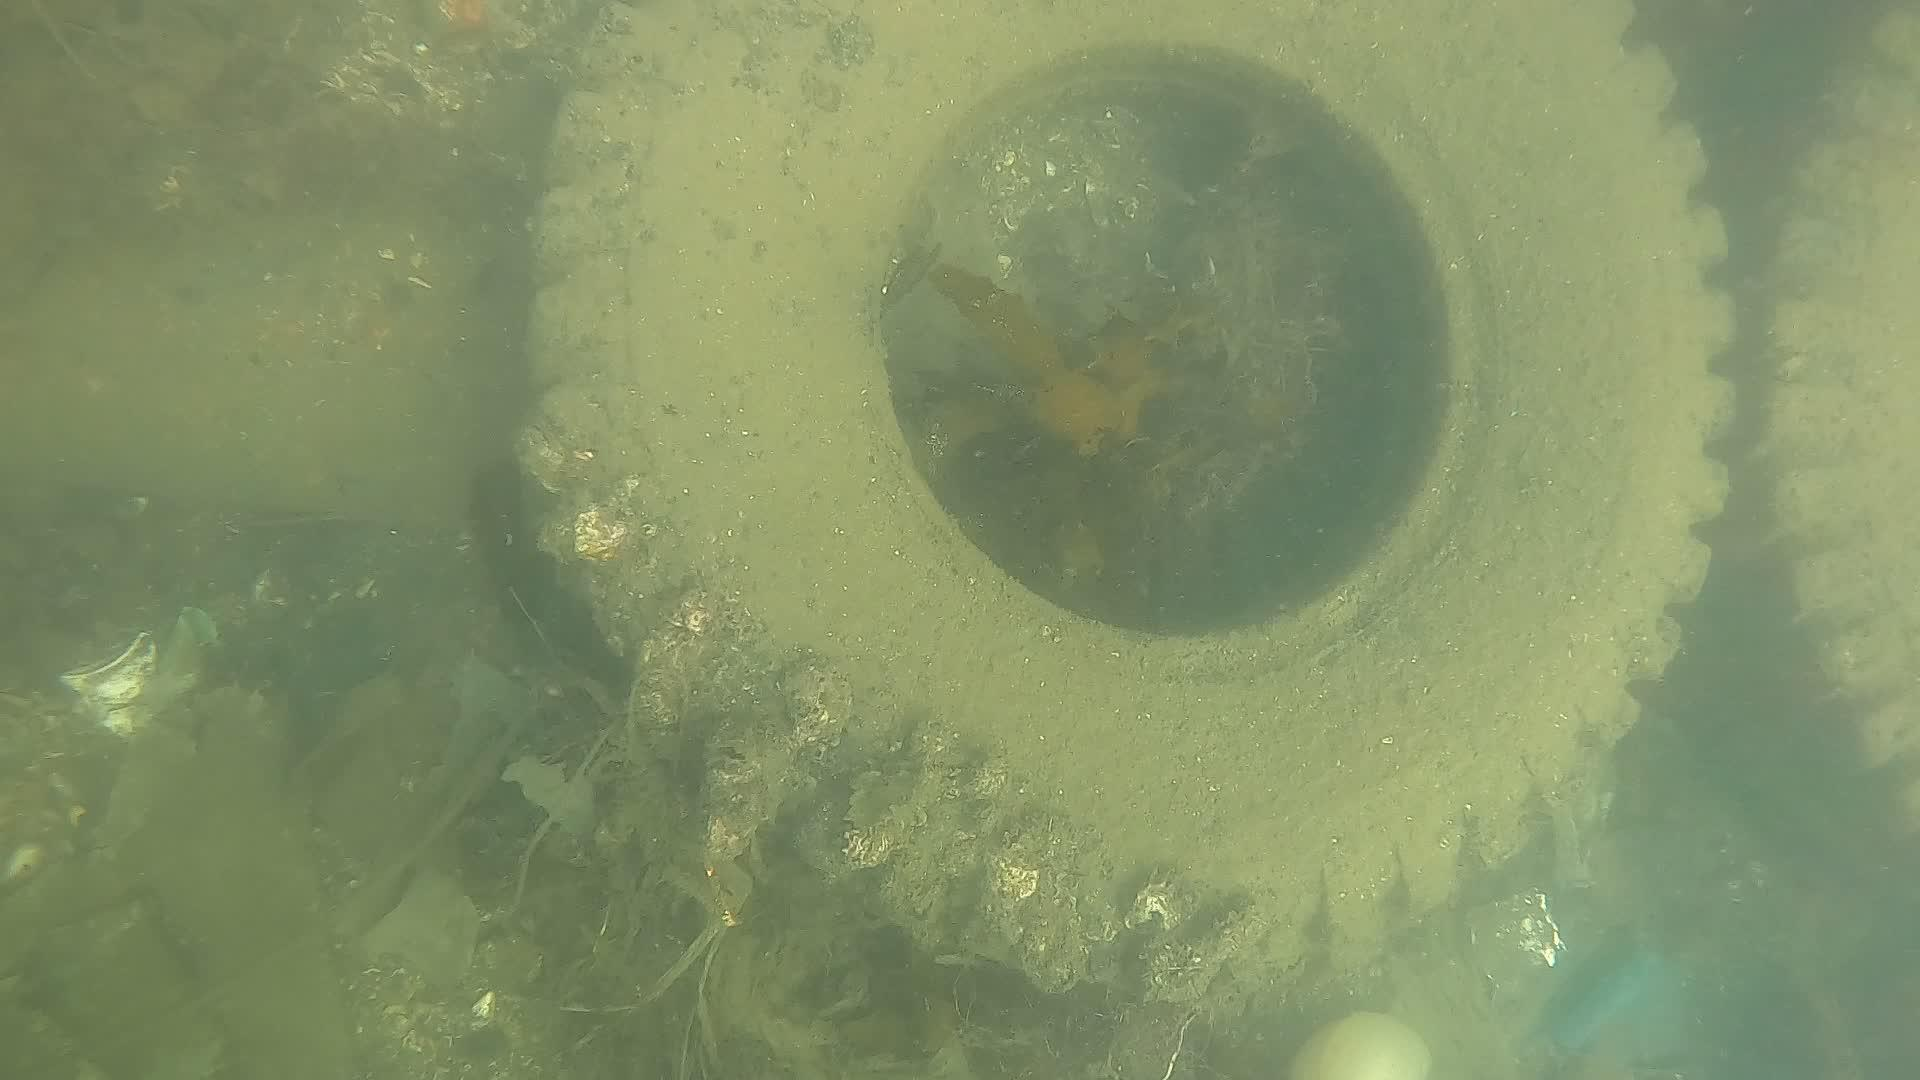tire: (522, 0, 1741, 926)
